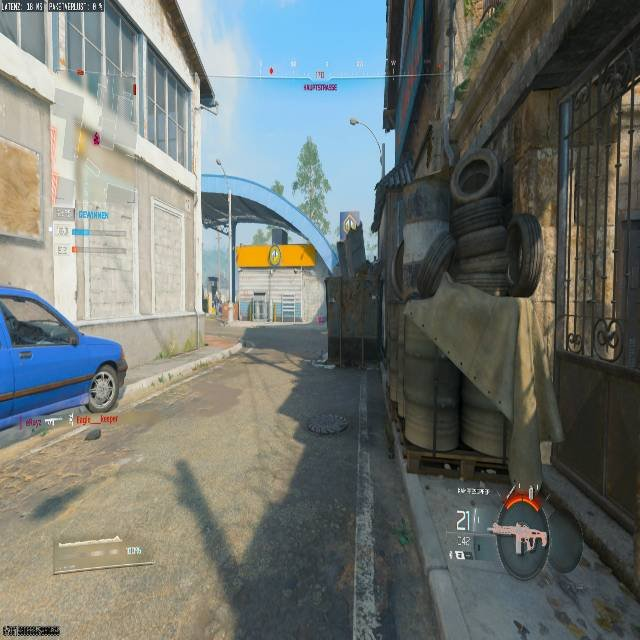player: (206, 273, 224, 315)
